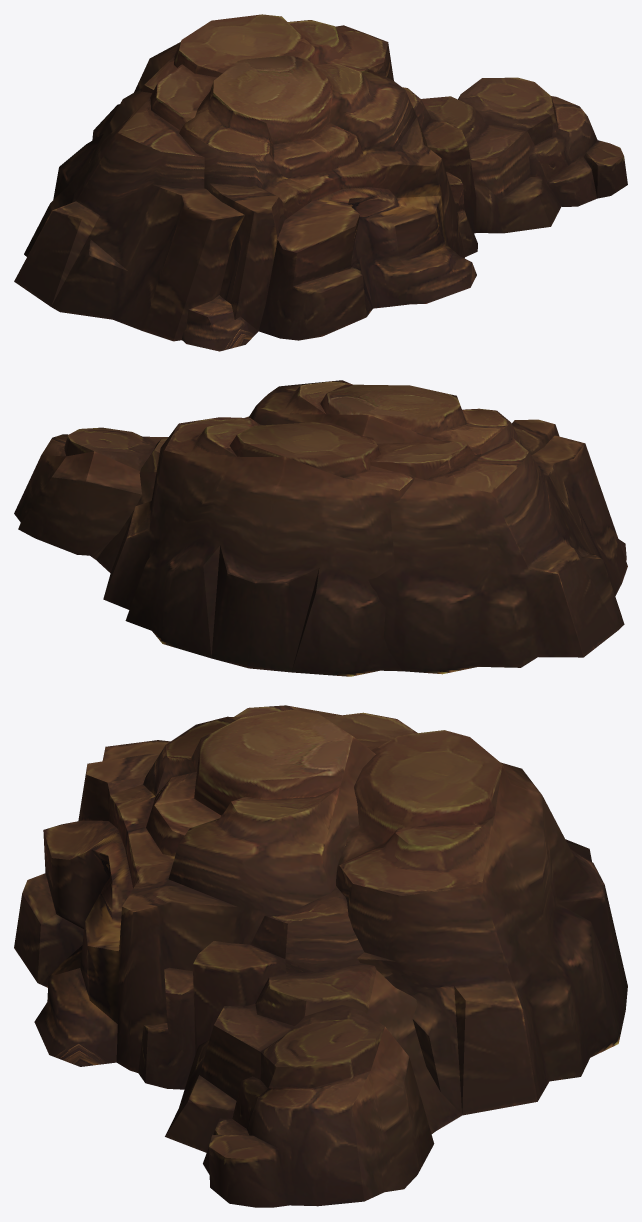
File: DashiTou01.FBX
3 renders of one model, top to bottom at view 1: azimuth 30°, elevation 25°; view 2: azimuth 150°, elevation 25°; view 3: azimuth 270°, elevation 25°, orthographic. The views are drawn at different scales.
Parts seen in each view (by area): view 1: DashiTou01; view 2: DashiTou01; view 3: DashiTou01.
Part boxes in pixels (bbox=[...]): DashiTou01: bbox=[14, 14, 627, 351]; DashiTou01: bbox=[14, 380, 627, 676]; DashiTou01: bbox=[14, 705, 627, 1207].
Size of the model in its own units: 959 by 288 by 662.
